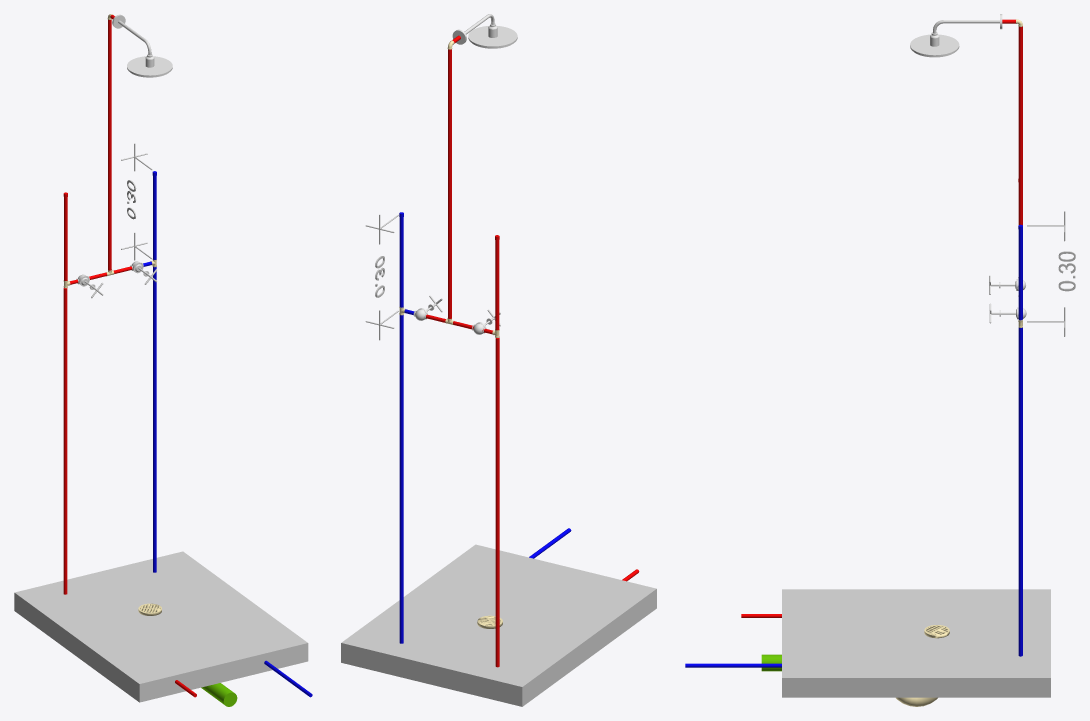
File: ducha.glb
The picture shows the model from 3 angles, left to right: view 1: azimuth 30°, elevation 25°; view 2: azimuth 150°, elevation 25°; view 3: azimuth 270°, elevation 25°; orthographic projection. The views are drawn at different scales.
Visible parts, largest first — view 1: Geom3D (×6); view 2: Geom3D (×5); view 3: Geom3D (×5).
Boxes of the visible parts, left/top/right/bottom form: Geom3D (×6): left=14, top=14, right=308, bottom=706; Geom3D (×5): left=341, top=14, right=656, bottom=706; Geom3D (×5): left=782, top=14, right=1050, bottom=706.
Size of the model in its own units: 0.6245 by 2.28 by 1.17.
